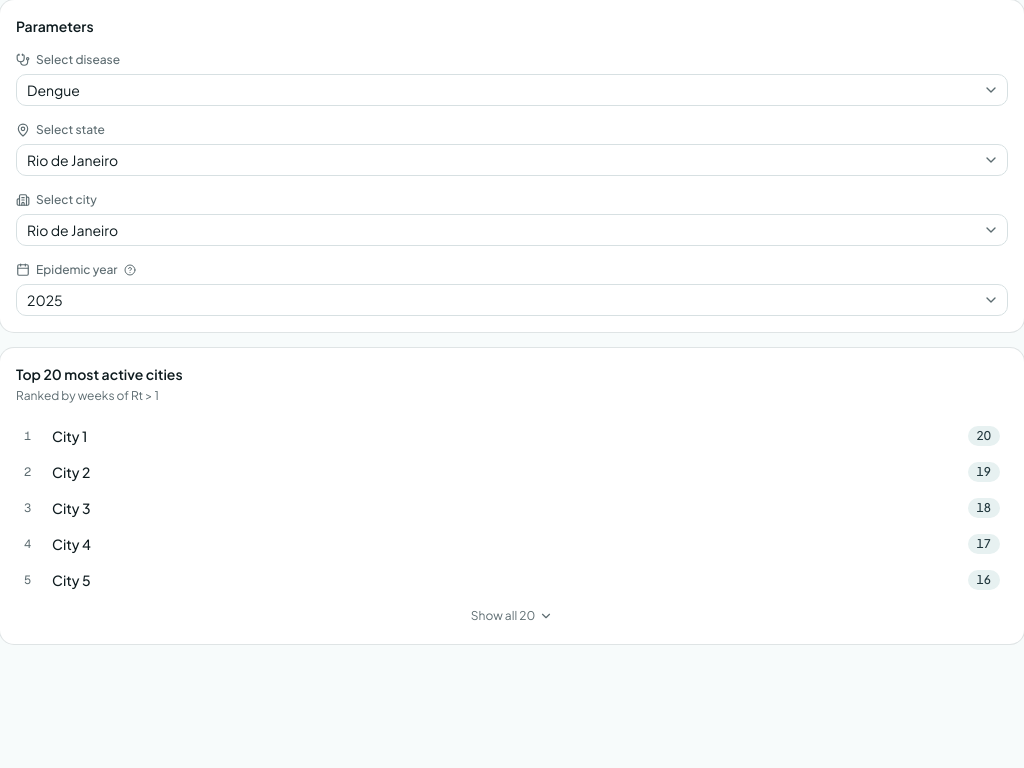
DashboardSidebar › expands to show all 20 cities
The image size is (1024, 768).
What coordinates should you click on to do the following:
click the button "Show all 20"
I would click on:
 (512, 616)
Its box is [16,604,1008,628].
(page scrolled)
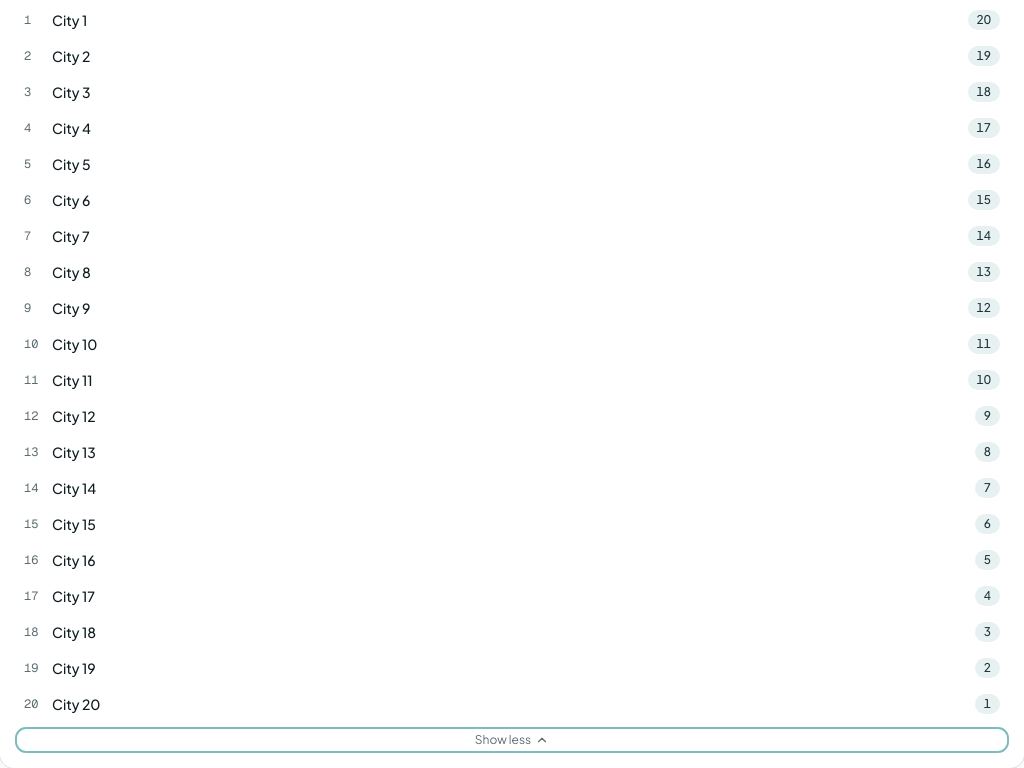
Check: the text "City 20" is shown, box [52,695,100,713]
Check: the button "Show less" is shown, box [16,728,1008,752]
